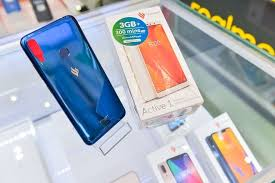vsmart: (16, 12, 126, 147)
